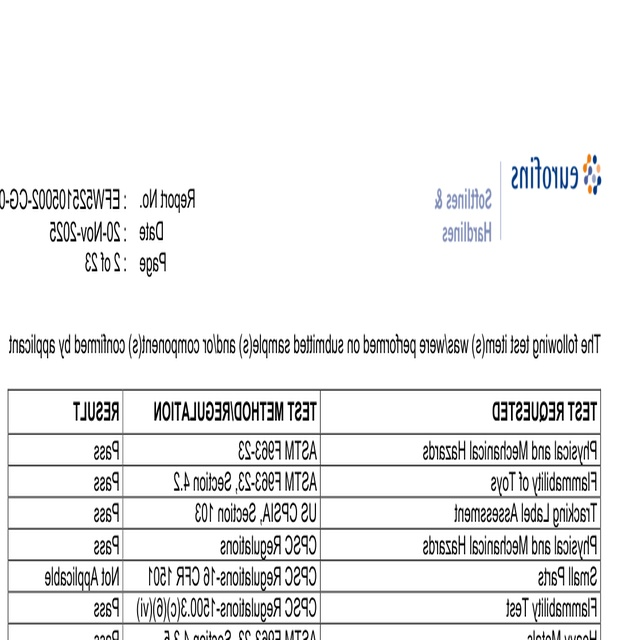eurofins: (507, 149, 604, 202)
